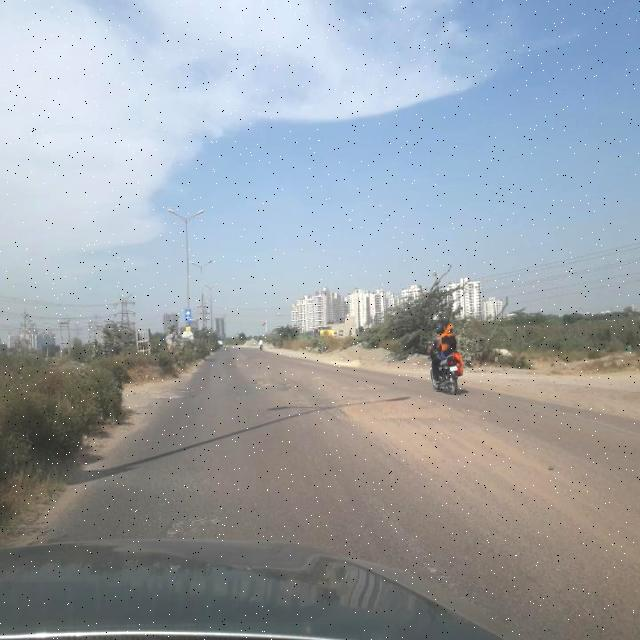D40: (330, 388, 484, 428), (249, 371, 323, 396), (162, 508, 228, 534)
D44: (359, 478, 472, 601)
